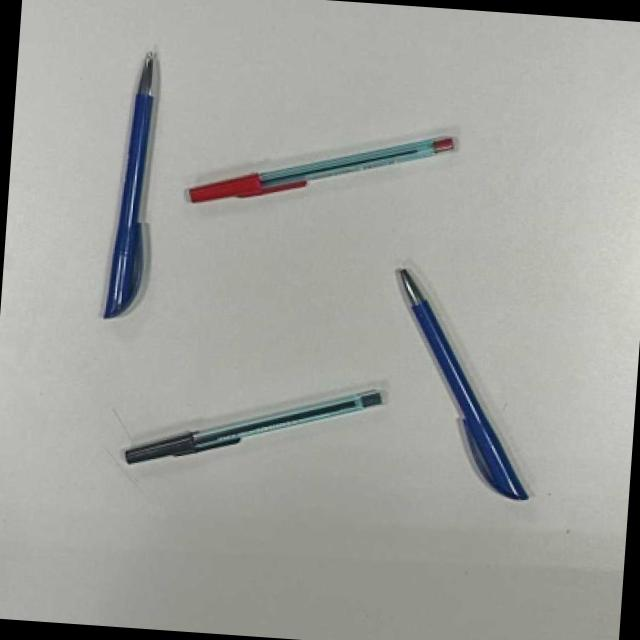caneta: (381, 266, 526, 511), (124, 387, 383, 468), (186, 136, 455, 208), (104, 52, 174, 324)
